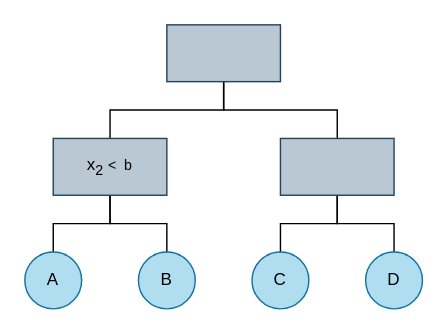
This 447x334 diagram has some shape labels left out. Here are the shapes that lost their labels. From the top down, the box of each, then its label:
(165, 23, 280, 82): x 1 < a
(279, 137, 394, 195): x 3 < c
